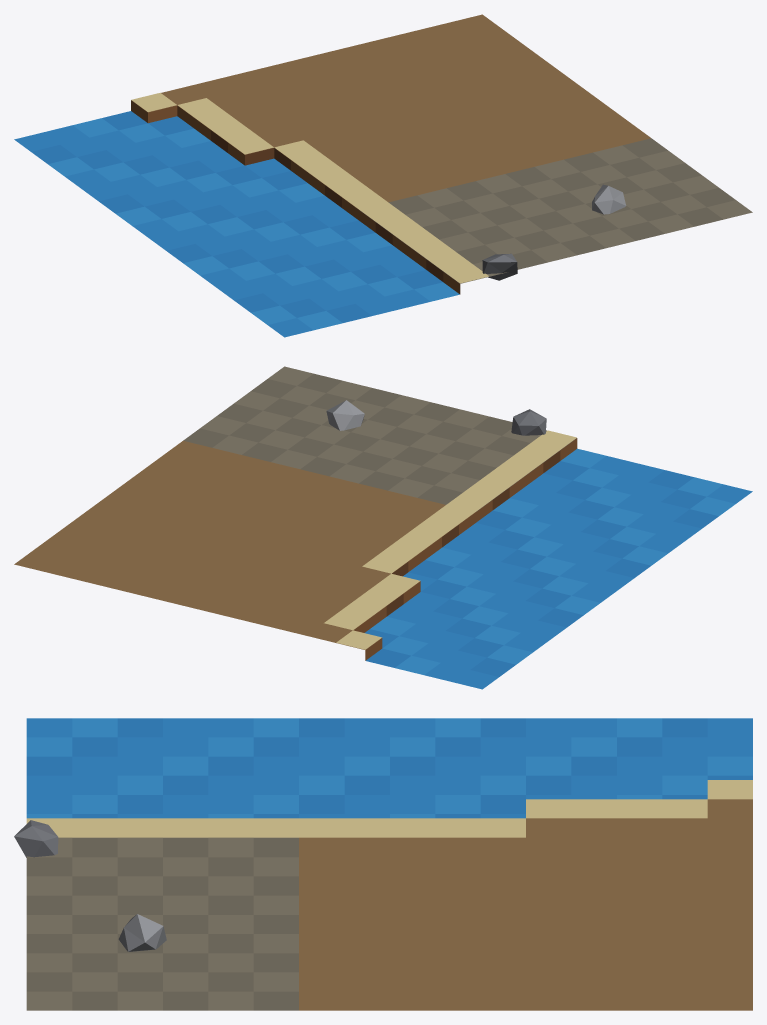
Rendered from chunk_4_17.glb.
3 views of the same model, one above another, from view 1: azimuth 30°, elevation 25°; view 2: azimuth 150°, elevation 25°; view 3: azimuth 270°, elevation 25° (orthographic). The views are drawn at different scales.
Parts seen in each view (by area): view 1: chunk_4_17; view 2: chunk_4_17; view 3: chunk_4_17.
Part boxes in pixels (box(x1,y1,x2,y2)): chunk_4_17: box(14, 14, 752, 337); chunk_4_17: box(14, 366, 752, 689); chunk_4_17: box(14, 718, 752, 1010).
Bounding box in the file's own units: 16 × 1.06 × 16.28.
